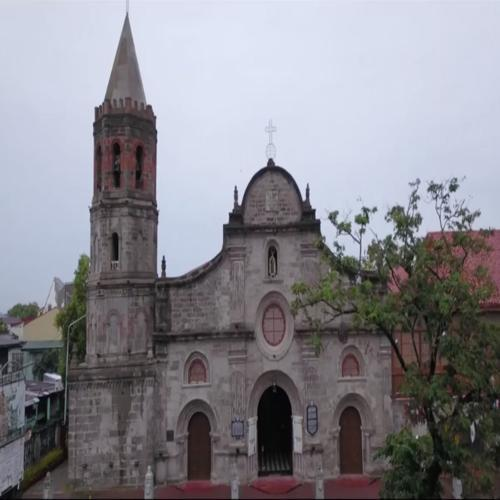Barasoain Church: (67, 6, 394, 478)
